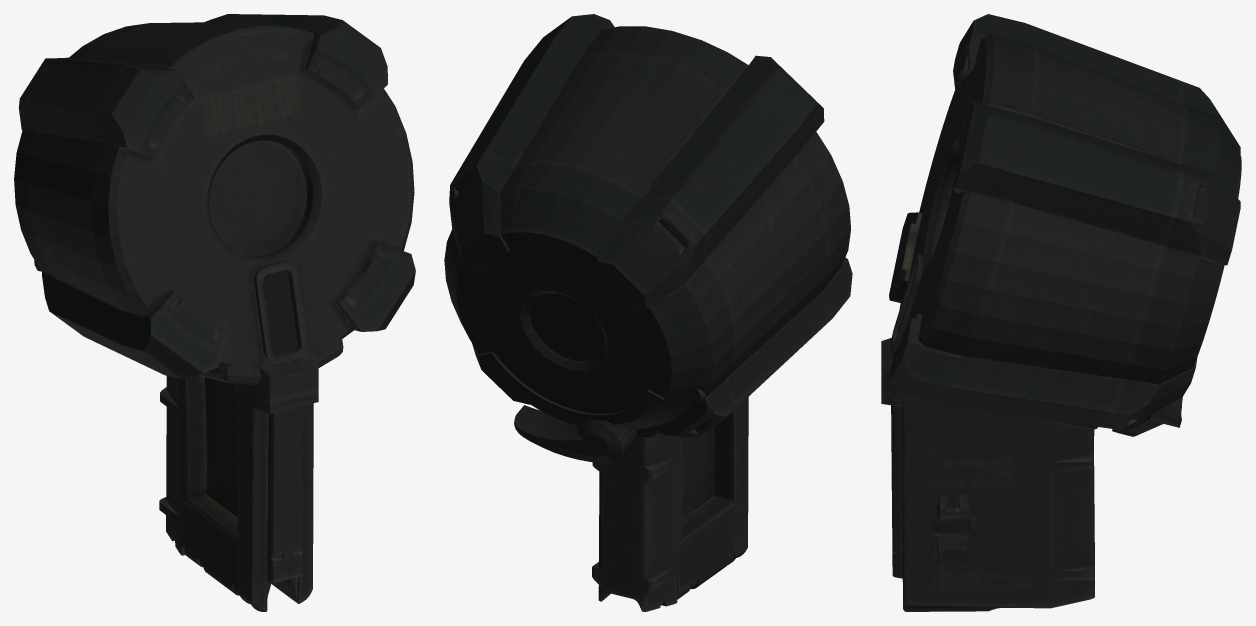
The picture shows the model from 3 angles, left to right: view 1: azimuth 30°, elevation 25°; view 2: azimuth 150°, elevation 25°; view 3: azimuth 270°, elevation 25°; orthographic projection.
Visible parts, largest first — view 1: TW_59c1383d86f774290a37e0ca_PZ_Import; view 2: TW_59c1383d86f774290a37e0ca_PZ_Import; view 3: TW_59c1383d86f774290a37e0ca_PZ_Import.
Part boxes in pixels (box(x1,y1,x2,y2)): TW_59c1383d86f774290a37e0ca_PZ_Import: box(14, 14, 415, 611); TW_59c1383d86f774290a37e0ca_PZ_Import: box(444, 14, 852, 611); TW_59c1383d86f774290a37e0ca_PZ_Import: box(881, 14, 1241, 611).
Bounding box in the file's own units: 0.064 × 0.0654 × 0.1105.
Materials: 1 (1 with a texture image).
